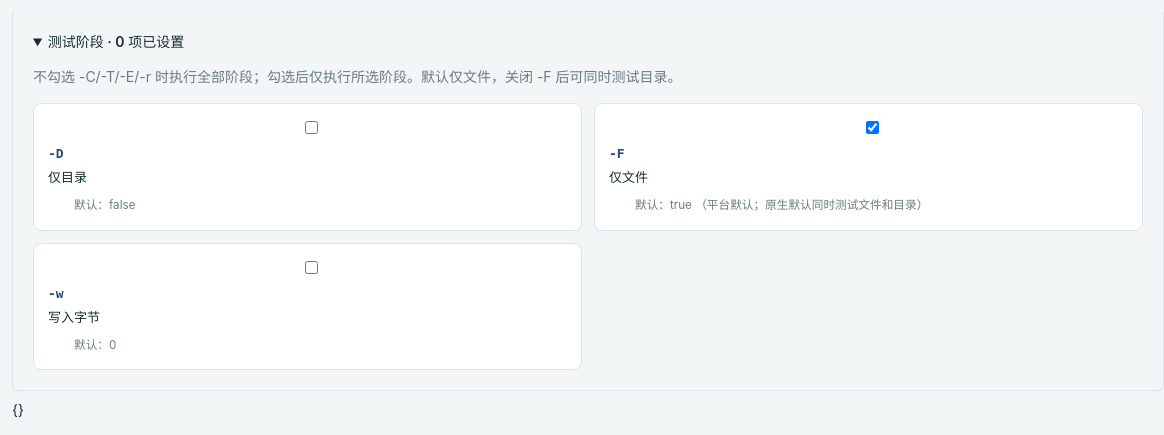
Scenario: mdtest custom › 目录测试关闭文件专用模式
Click the checkbox labelled "-D 仅目录". click: (312, 127)
box: [52, 121, 571, 134]
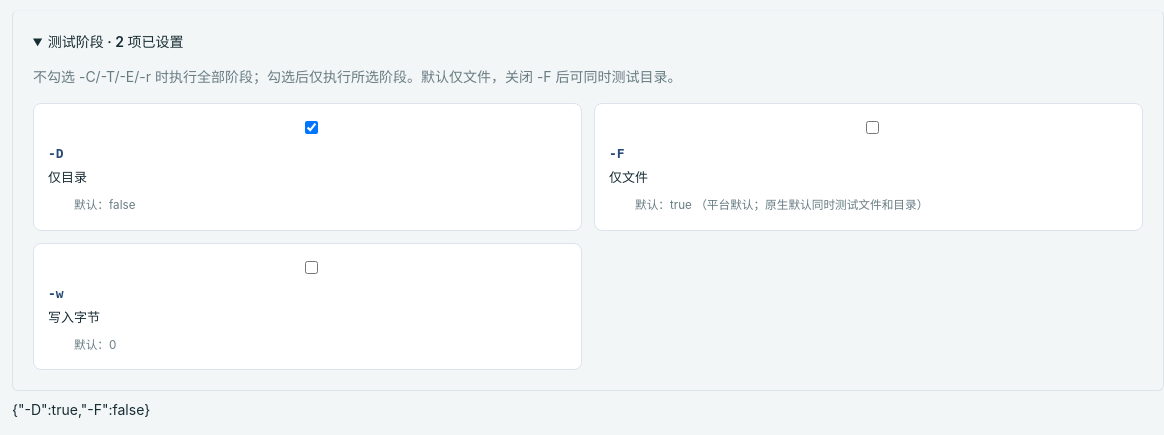
Expected: the text "{\"-D\":true,\"-F\":false}" shows "\"-F\":false", [12, 402, 150, 418]
